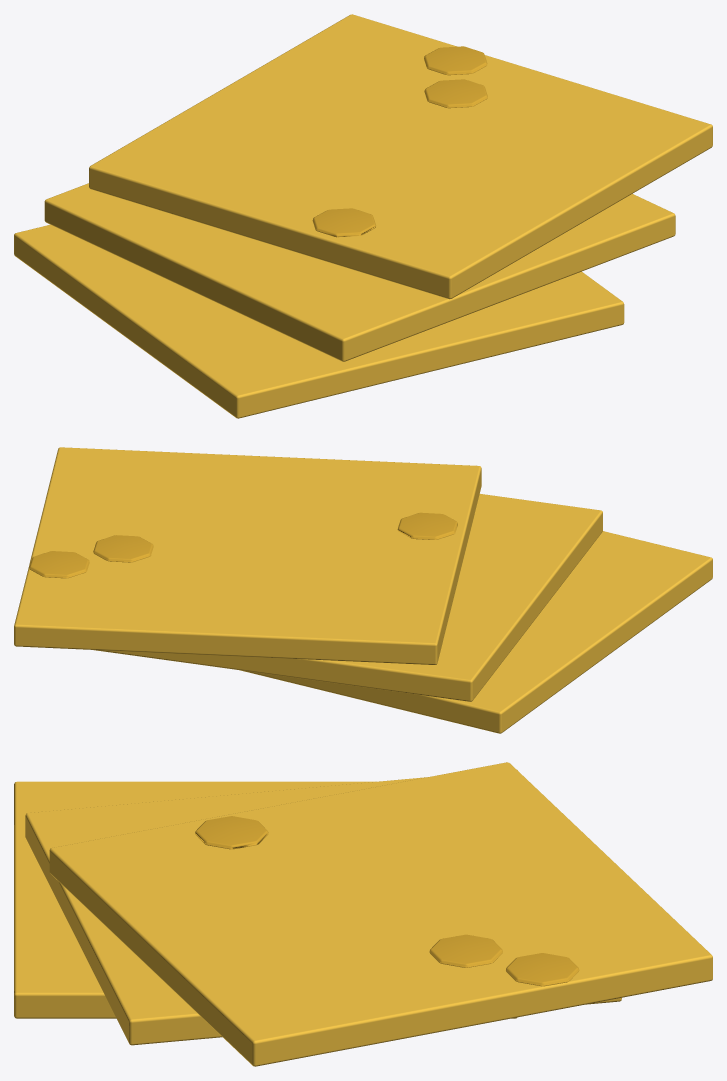
Rendered from Cheese_Sliced.glb.
3 renders of one model, top to bottom at view 1: azimuth 30°, elevation 25°; view 2: azimuth 150°, elevation 25°; view 3: azimuth 270°, elevation 25°, orthographic. The views are drawn at different scales.
Parts seen in each view (by area): view 1: Cheese_Sliced; view 2: Cheese_Sliced; view 3: Cheese_Sliced.
Part boxes in pixels (x1=…): Cheese_Sliced: x1=14, y1=14, x2=712, y2=418; Cheese_Sliced: x1=14, y1=447, x2=712, y2=733; Cheese_Sliced: x1=14, y1=762, x2=712, y2=1066.
Bounding box in the file's own units: 0.1051 × 0.0139 × 0.0971.
